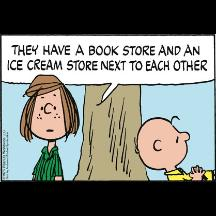charlie: (134, 116, 216, 182)
